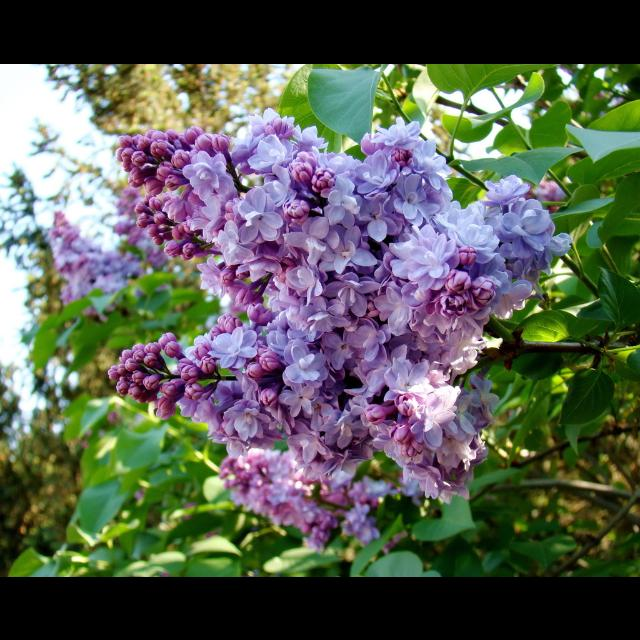Flower: (107, 107, 573, 556), (48, 186, 174, 304)
